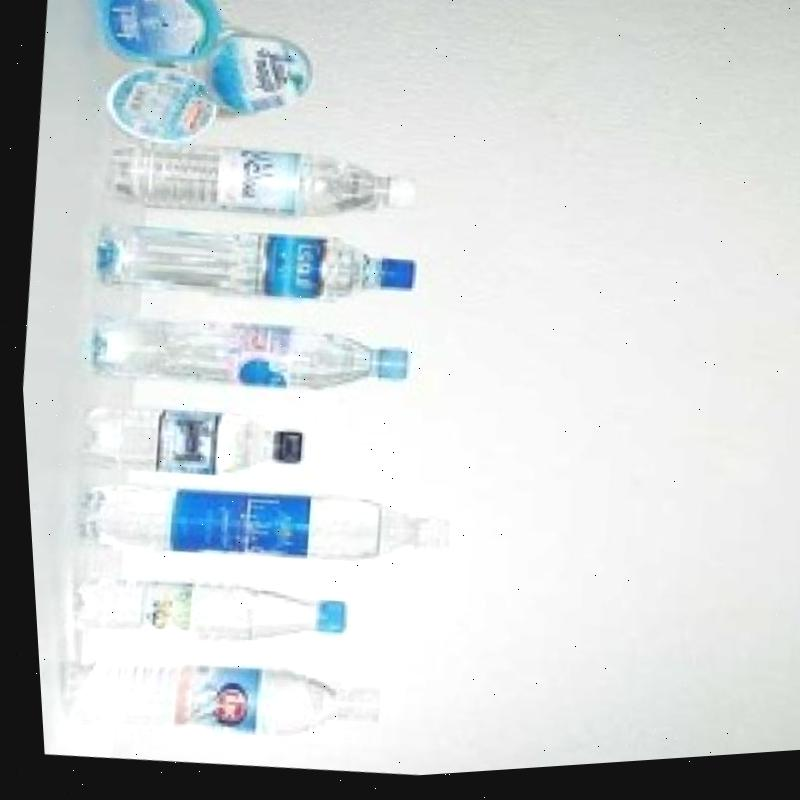botella: (58, 458, 450, 593), (62, 293, 408, 420), (71, 204, 413, 331), (43, 636, 375, 764), (95, 117, 423, 244), (62, 557, 340, 663), (64, 389, 300, 498)
